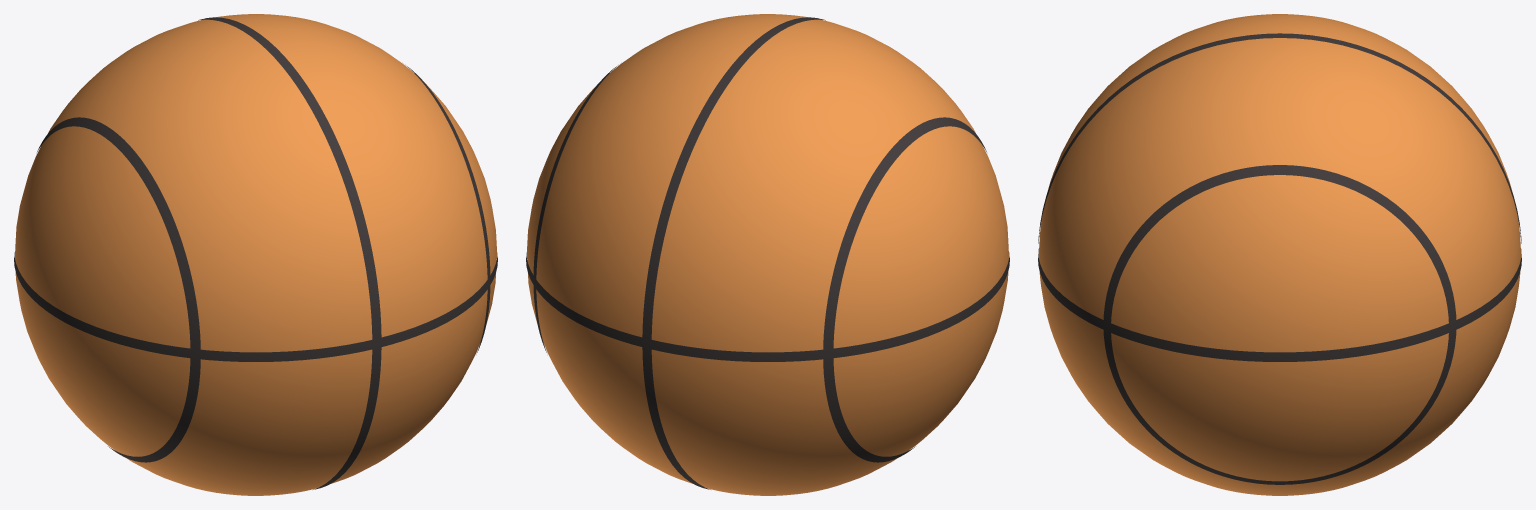
File: Basketball.glb
3 views of the same model, side by side, from view 1: azimuth 30°, elevation 25°; view 2: azimuth 150°, elevation 25°; view 3: azimuth 270°, elevation 25° (orthographic).
Parts seen in each view (by area): view 1: Basketball; view 2: Basketball; view 3: Basketball.
Part boxes in pixels (left/top/right/bottom): Basketball: left=14, top=14, right=497, bottom=495; Basketball: left=526, top=14, right=1009, bottom=495; Basketball: left=1038, top=14, right=1521, bottom=495.
Bounding box in the file's own units: 0.1806 × 0.1806 × 0.1806.
